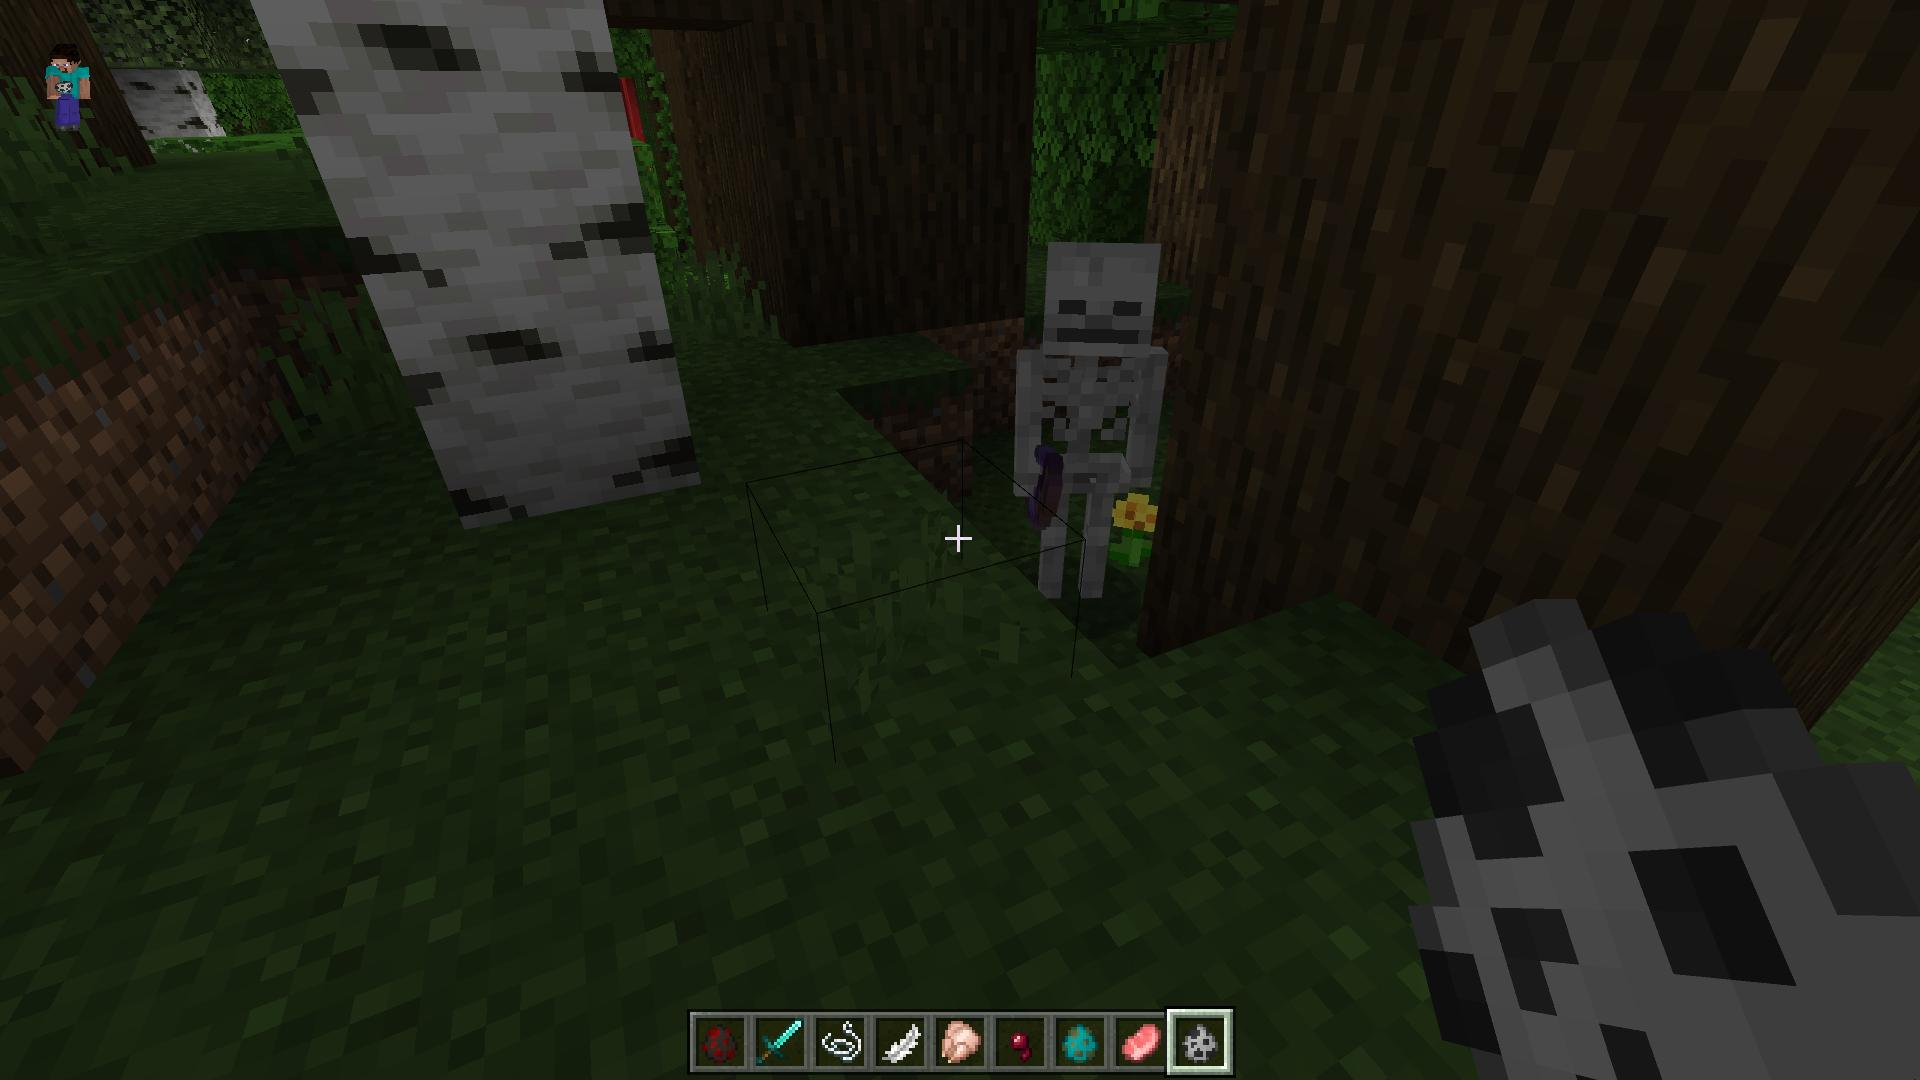skeleton: (1015, 236, 1168, 605)
